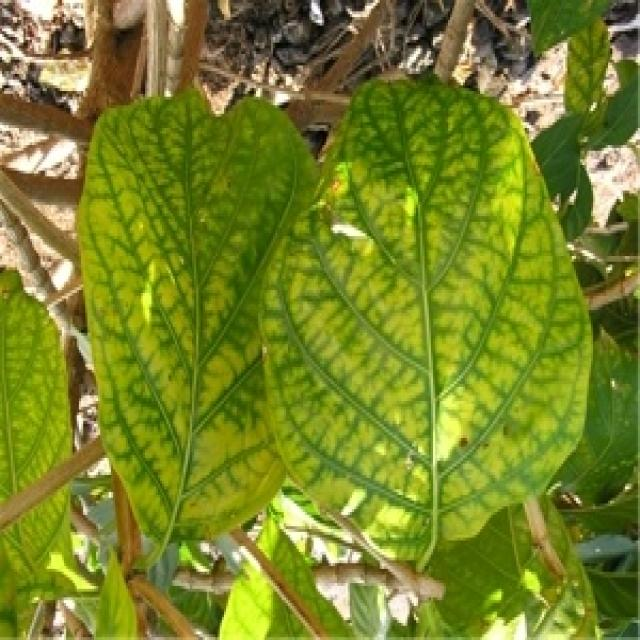Chlorosis: (105, 112, 570, 524)
